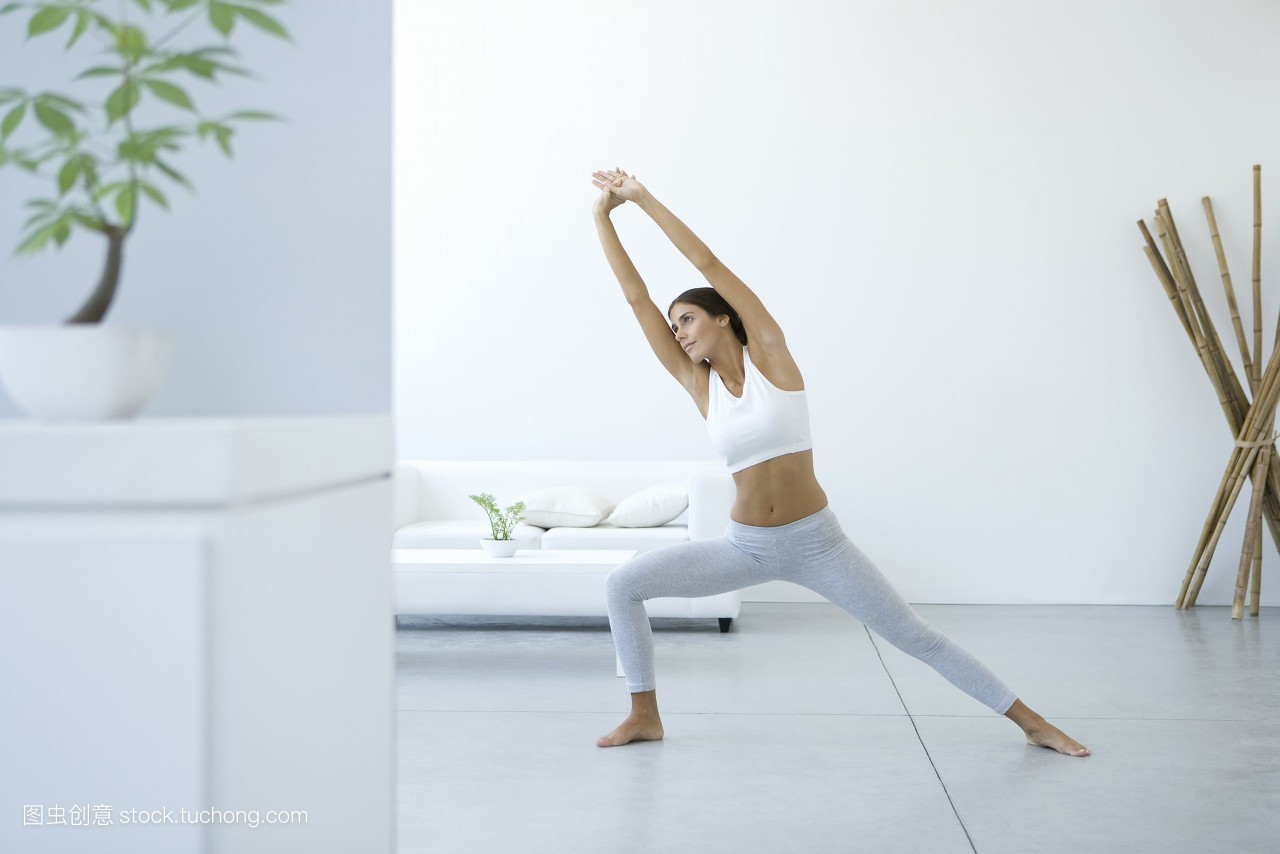handsup: (582, 124, 1154, 769)
